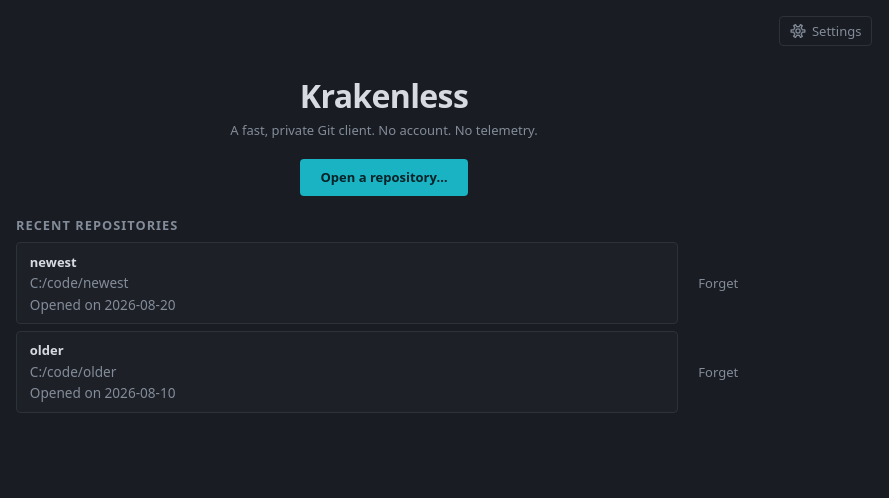
Test: WelcomeView › clears a stale picker failure when a recent repository is opened
The width and height of the screenshot is (889, 498).
What coordinates should you click on to do the following:
click the button "Open a repository…"
I would click on:
 (384, 177)
Its box is [300,159,468,196].
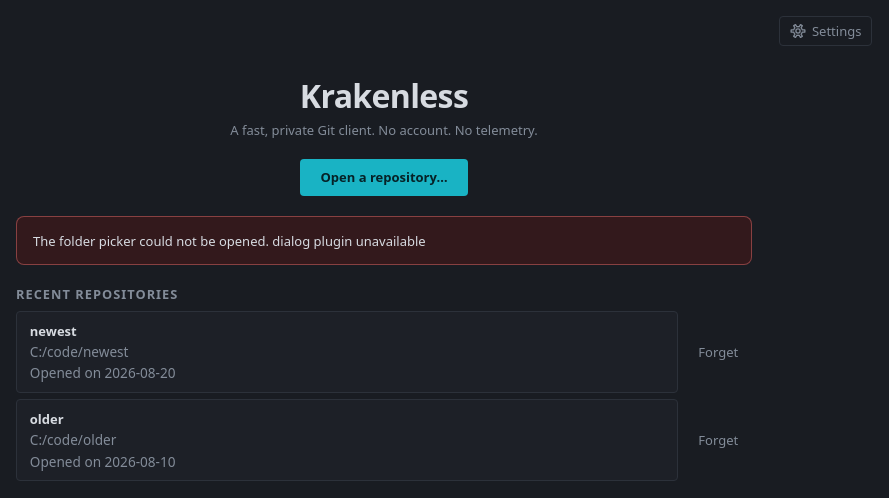
Expected: the message "The folder picker could not be opened. dialog plugin unavailable" is shown, [16,216,752,265]
What coordinates should you click on to do the following:
click the button "newest C:/code/newest Opened on 2026-08-20"
I would click on:
 (53, 331)
Its box is [16,311,678,393].
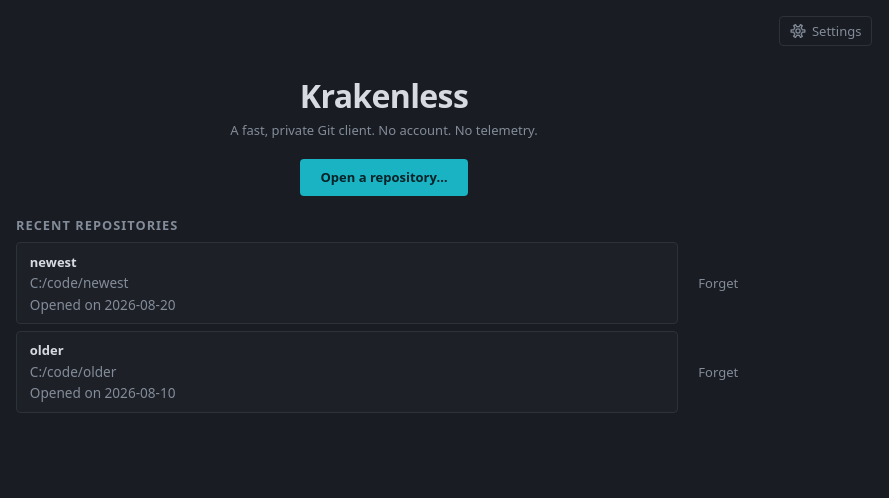
Expected: the message "The folder picker could not be opened. dialog plugin unavailable" is gone
